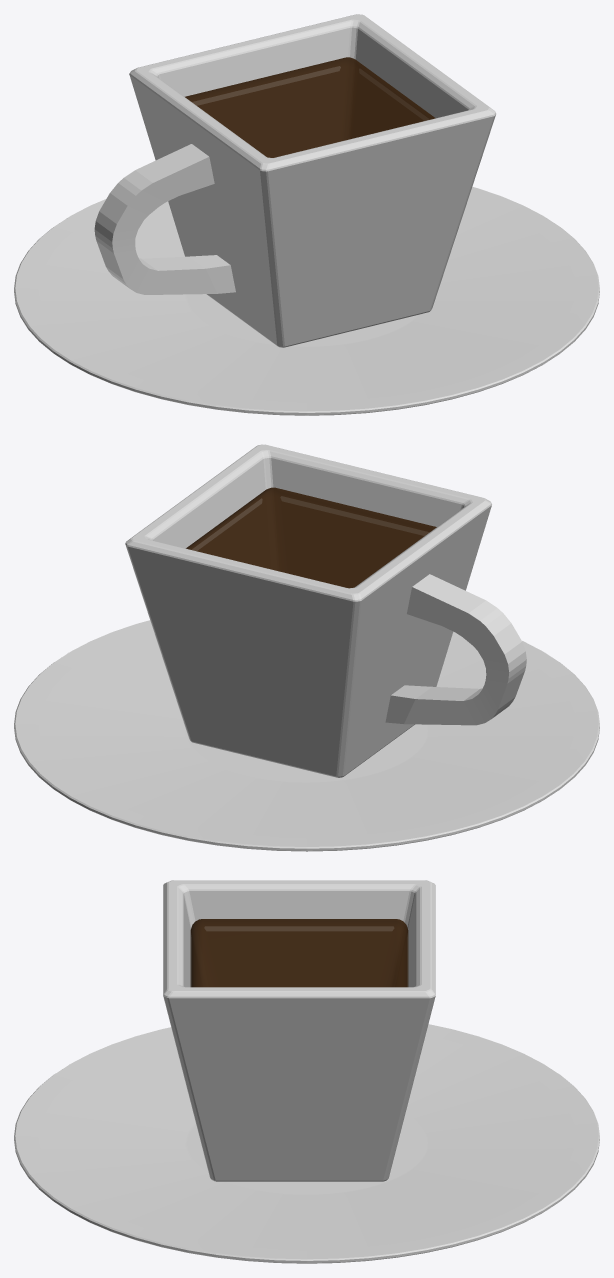
3 views of the same model, one above another, from view 1: azimuth 30°, elevation 25°; view 2: azimuth 150°, elevation 25°; view 3: azimuth 270°, elevation 25° (orthographic).
Parts seen in each view (by area): view 1: livingroom:polySurface65, livingroom:polySurface67; view 2: livingroom:polySurface65, livingroom:polySurface67; view 3: livingroom:polySurface67, livingroom:polySurface65.
Boxes of the visible parts, box(x1,y1,x2,y2) form: livingroom:polySurface65: box(94, 14, 496, 347); livingroom:polySurface67: box(14, 187, 599, 415); livingroom:polySurface65: box(125, 444, 526, 777); livingroom:polySurface67: box(14, 620, 599, 851); livingroom:polySurface67: box(14, 1024, 599, 1263); livingroom:polySurface65: box(163, 880, 435, 1181).
Size of the model in its own units: 1.61 by 0.6423 by 1.61.
